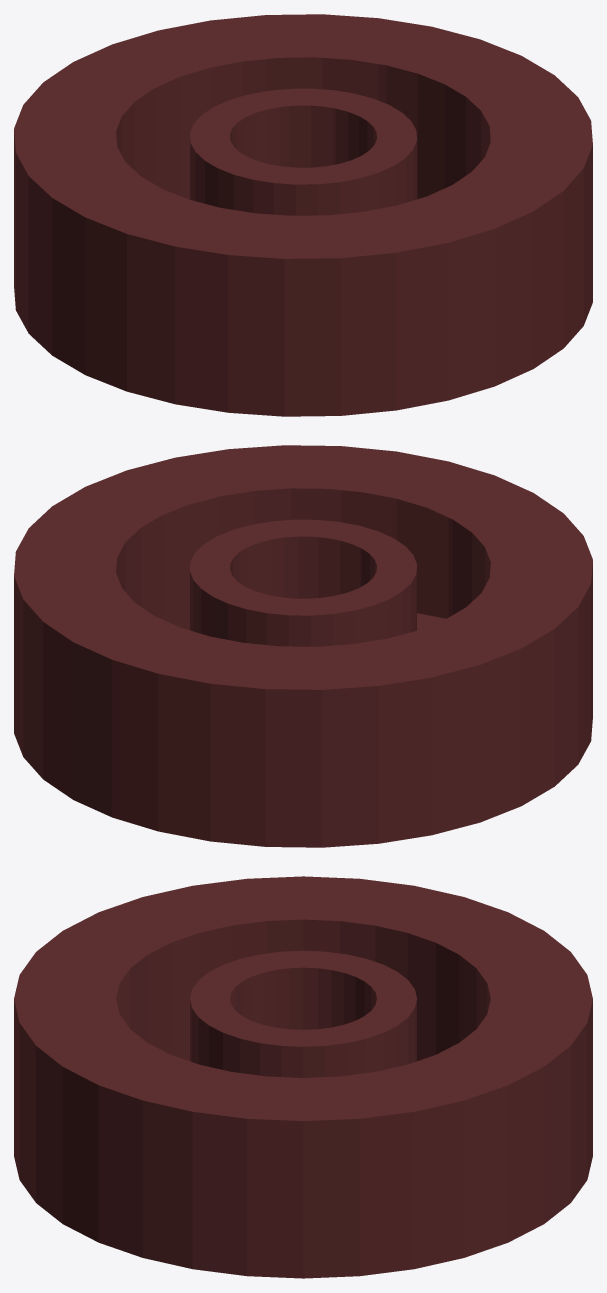
Rendered from heloma_blando.gltf.
3 renders of one model, top to bottom at view 1: azimuth 30°, elevation 25°; view 2: azimuth 150°, elevation 25°; view 3: azimuth 270°, elevation 25°, orthographic.
Parts seen in each view (by area): view 1: Cilindro.001, Cilindro; view 2: Cilindro.001, Cilindro; view 3: Cilindro.001, Cilindro.
Part boxes in pixels (<box>): Cilindro.001: <box>14,14,592,416</box>; Cilindro: <box>190,88,416,215</box>; Cilindro.001: <box>14,445,592,847</box>; Cilindro: <box>190,519,416,646</box>; Cilindro.001: <box>14,876,592,1278</box>; Cilindro: <box>190,950,416,1077</box>.
Bounding box in the file's own units: 1.53 × 0.4585 × 1.53.
